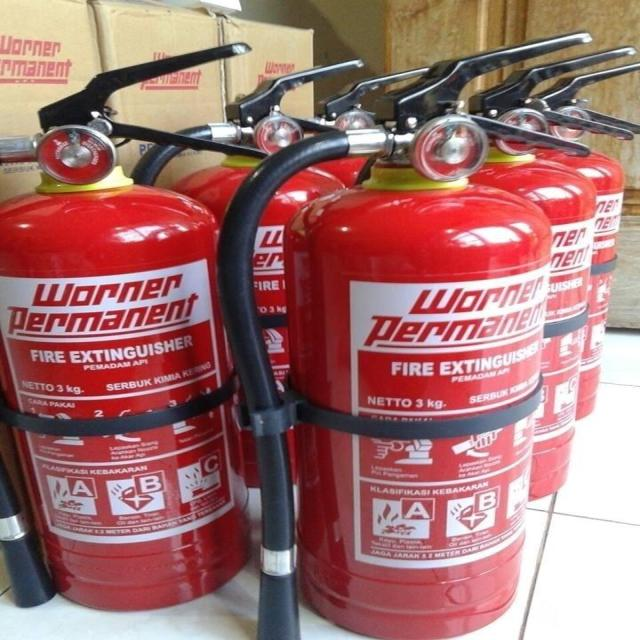fire_extinguisher: (203, 25, 601, 639), (1, 36, 281, 618), (307, 42, 639, 527), (95, 55, 383, 509), (435, 59, 639, 440)
